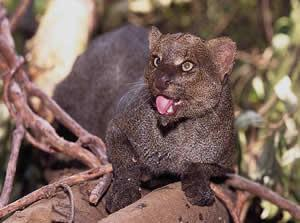Jaguarundi: (76, 24, 243, 210)
